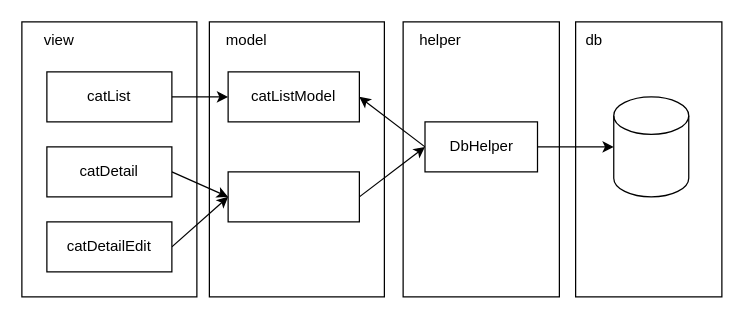
This 744x319 diagram has some shape labels left out. Here are the shapes that lost their labels. From the top down, the centre of each, then its label:
At pixel 650 146: "cats".
At pixel 293 196: "catDetailModel".
